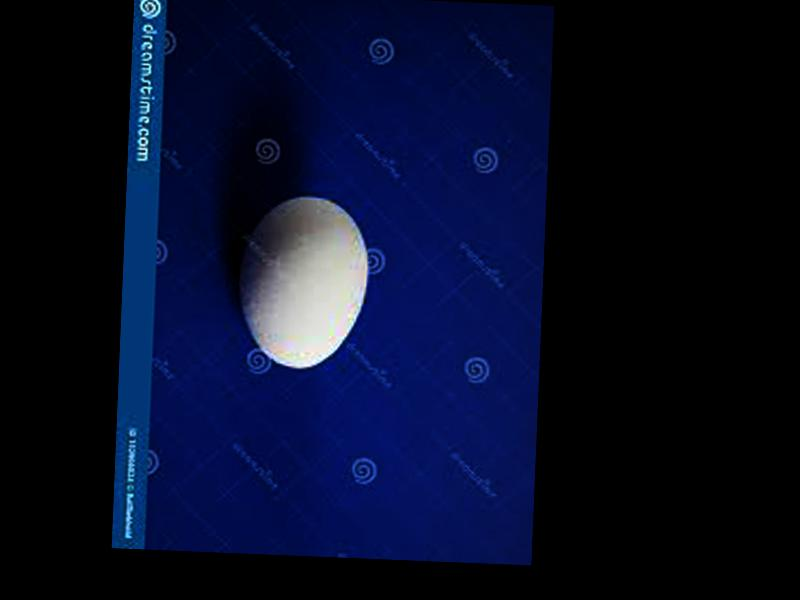Eggs: (235, 192, 370, 371)
